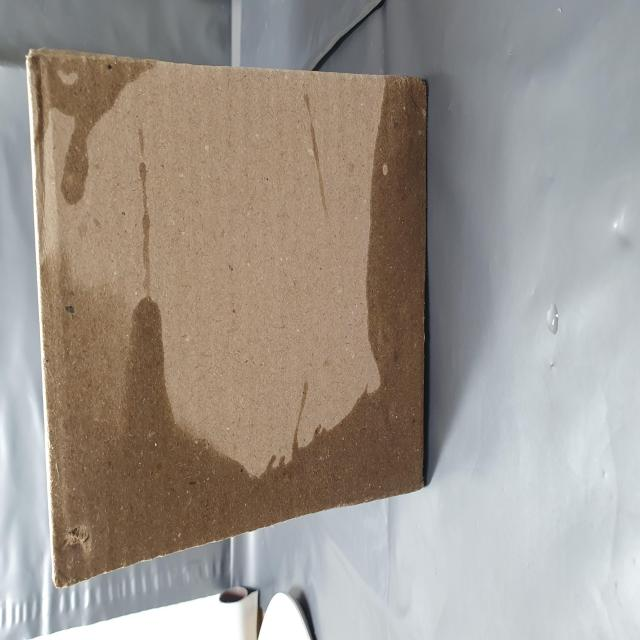wet: (44, 49, 359, 640)
